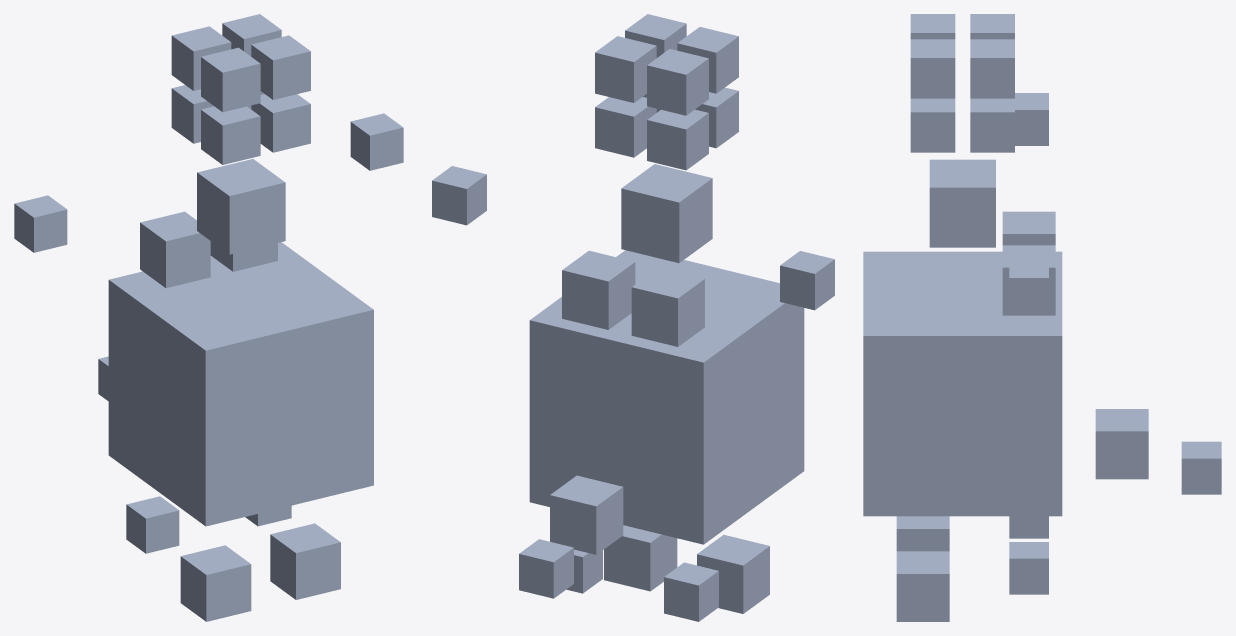
File: griffin_alpine.obj
The picture shows the model from 3 angles, left to right: view 1: azimuth 30°, elevation 25°; view 2: azimuth 150°, elevation 25°; view 3: azimuth 270°, elevation 25°; orthographic projection. The views are drawn at different scales.
Visible parts, largest first — view 1: griffin_alpine; view 2: griffin_alpine; view 3: griffin_alpine.
Boxes of the visible parts, x1=… form: griffin_alpine: x1=14, y1=14, x2=403, y2=621; griffin_alpine: x1=432, y1=14, x2=834, y2=621; griffin_alpine: x1=863, y1=14, x2=1221, y2=621.
Bounding box in the file's own units: 3.3 × 4.59 × 2.7.
